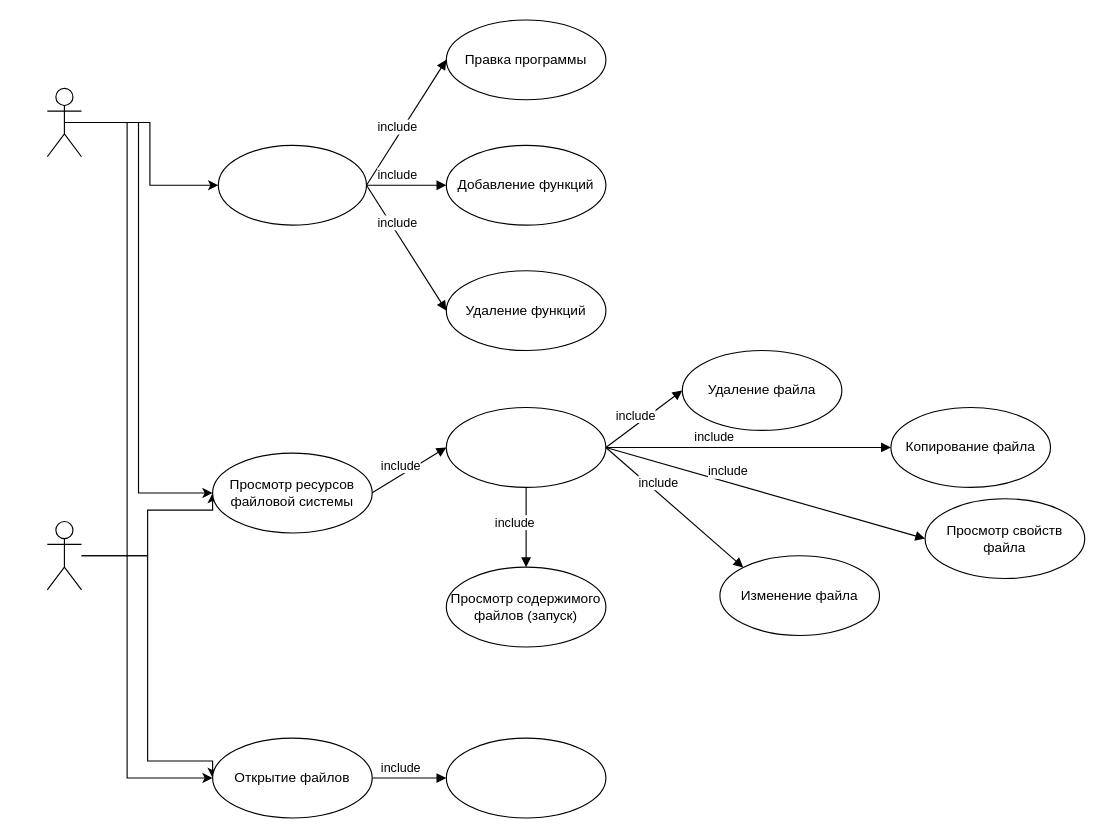
The diagram is 1105 pixels wide and 838 high, and some of its shapes have lost their labels. Each missing label, with the centre of its shape:
Запуск приложения: point (525, 777)
Пользователь: point (64, 555)
Просмотр списка файлов: point (525, 446)
Разработчик: point (64, 122)
Управление программой: point (292, 184)
